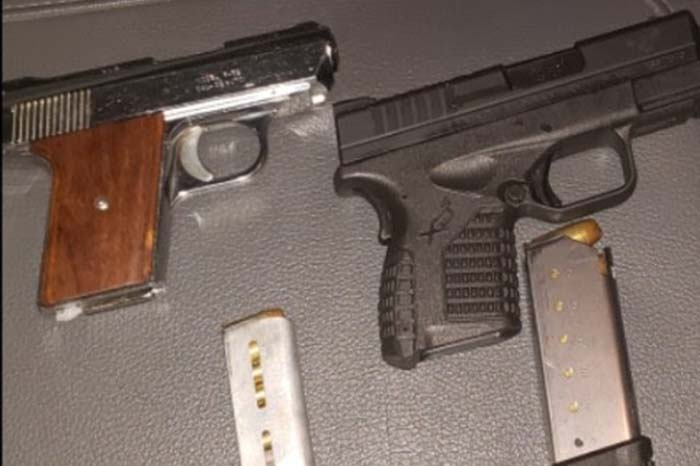Arma Real: (332, 10, 700, 369), (5, 21, 339, 311)
